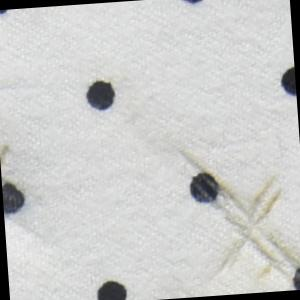Oil Stain: (172, 135, 300, 299), (1, 143, 26, 201)
Wrinkle: (5, 210, 55, 254)
